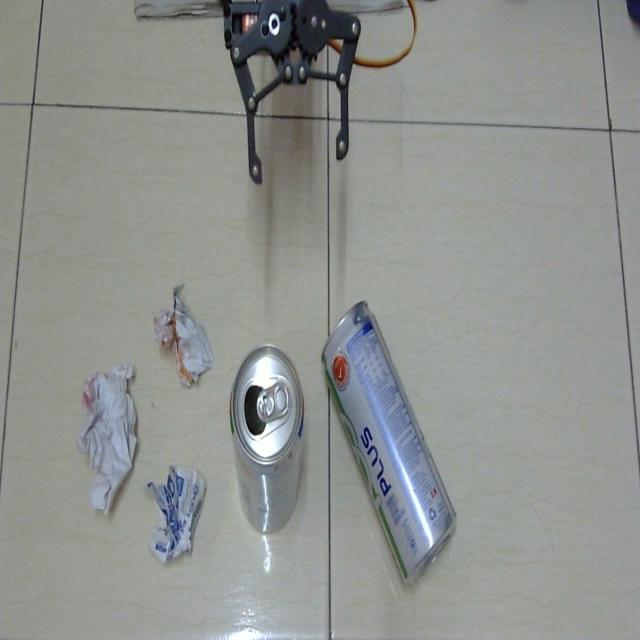Metal-laydown_45left-rotation: (320, 297, 460, 584)
Metal-stand-rotation: (224, 334, 307, 542)
Paperrotation: (74, 359, 145, 515), (145, 285, 219, 388), (146, 466, 208, 564)
